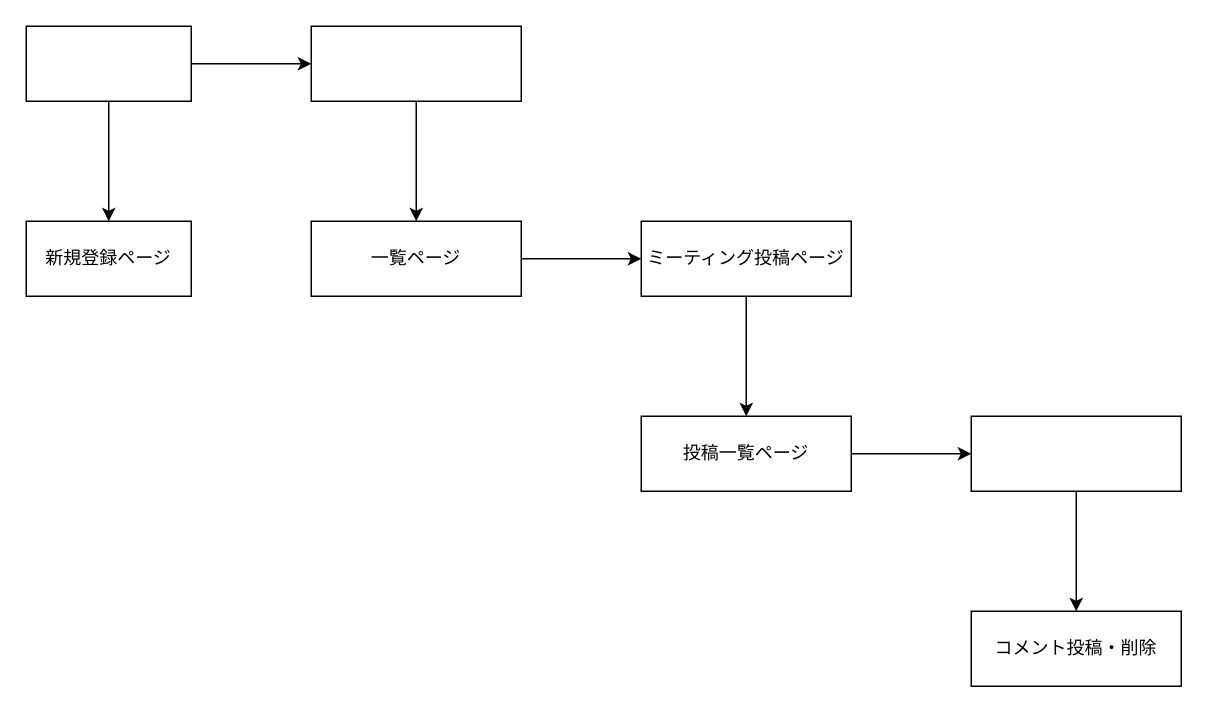
This 1208x713 diagram has some shape labels left out. The box of each missing label's shape, as (x1, y1, x2, y2) in pixels:
ユーザー詳細ページ: (310, 25, 521, 101)
ログインページ: (25, 25, 191, 101)
投稿詳細ページ: (970, 415, 1181, 491)
